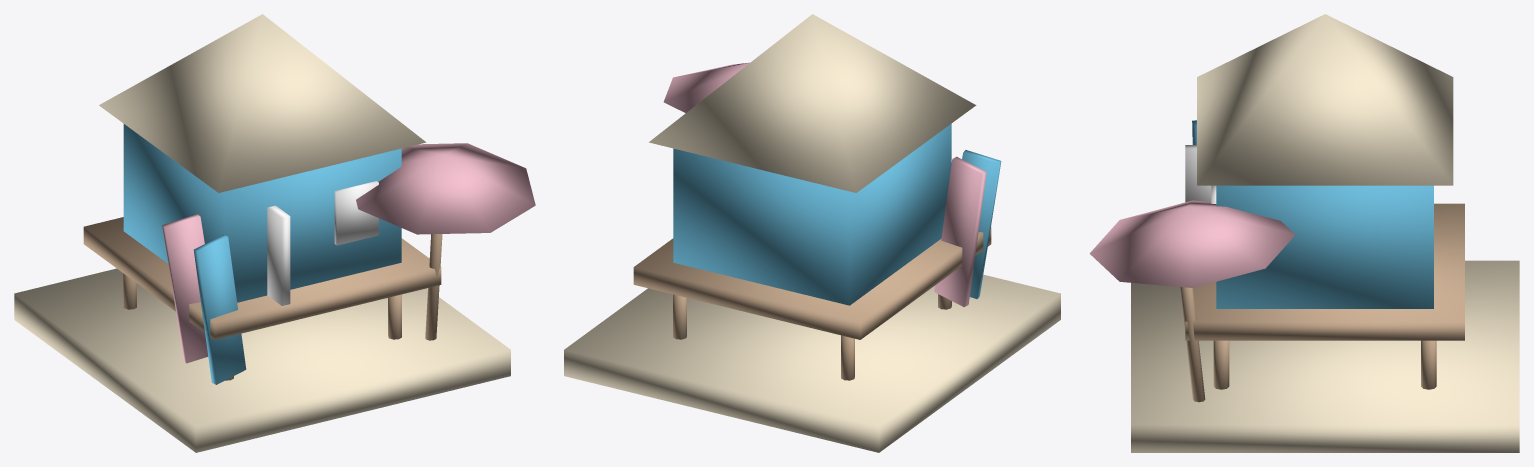
File: beach_resort.glb
The picture shows the model from 3 angles, left to right: view 1: azimuth 30°, elevation 25°; view 2: azimuth 150°, elevation 25°; view 3: azimuth 270°, elevation 25°; orthographic projection. The views are drawn at different scales.
Visible parts, largest first — view 1: base, straw_roof, walls, umb_top, deck, surf2, surf1, door, win, umb_pole, stilt2; view 2: base, walls, straw_roof, deck, surf1, surf2, umb_top, stilt3, stilt4; view 3: base, straw_roof, walls, deck, umb_top, umb_pole, door, stilt2, stilt4.
Boxes of the visible parts, x1,y1,x2,y2 form: base: (14,268,510,452); straw_roof: (99,14,426,192); walls: (123,124,401,302); umb_top: (356,143,535,234); deck: (83,217,441,339); surf2: (193,234,246,384); surf1: (162,214,208,363); door: (267,205,290,305); win: (334,181,378,245); umb_pole: (425,234,442,340); stilt2: (388,294,401,339); base: (564,274,1060,452); walls: (673,123,951,305); straw_roof: (649,14,976,192); deck: (633,227,991,339); surf1: (934,156,986,306); surf2: (962,150,1001,298); umb_top: (663,62,749,112); stilt3: (841,335,854,380); stilt4: (673,294,686,339); base: (1131,260,1519,452); straw_roof: (1197,14,1453,185); walls: (1216,185,1433,308); deck: (1185,203,1464,340); umb_top: (1089,200,1295,287); umb_pole: (1180,287,1205,402); door: (1185,145,1211,202); stilt2: (1213,340,1229,389); stilt4: (1421,340,1436,389).
Bounding box in the file's own units: 0.855 × 0.7601 × 0.83.
